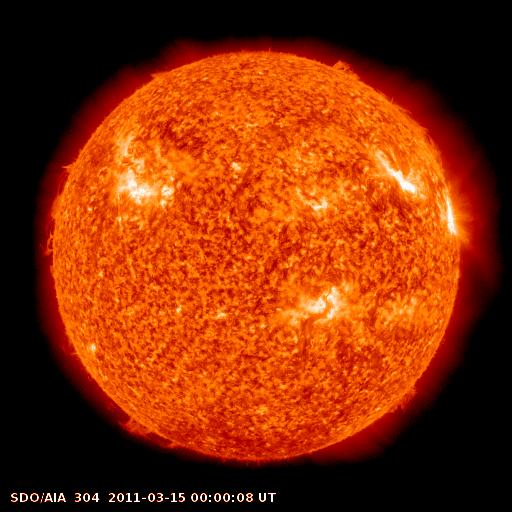prominence: (32, 153, 86, 261), (108, 403, 188, 459), (401, 110, 454, 177), (377, 370, 431, 422), (323, 52, 367, 90)
